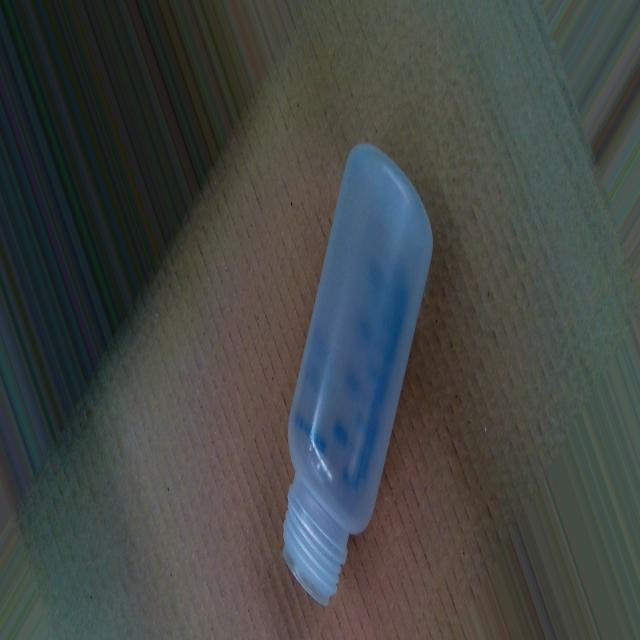bottle: (279, 140, 437, 610)
